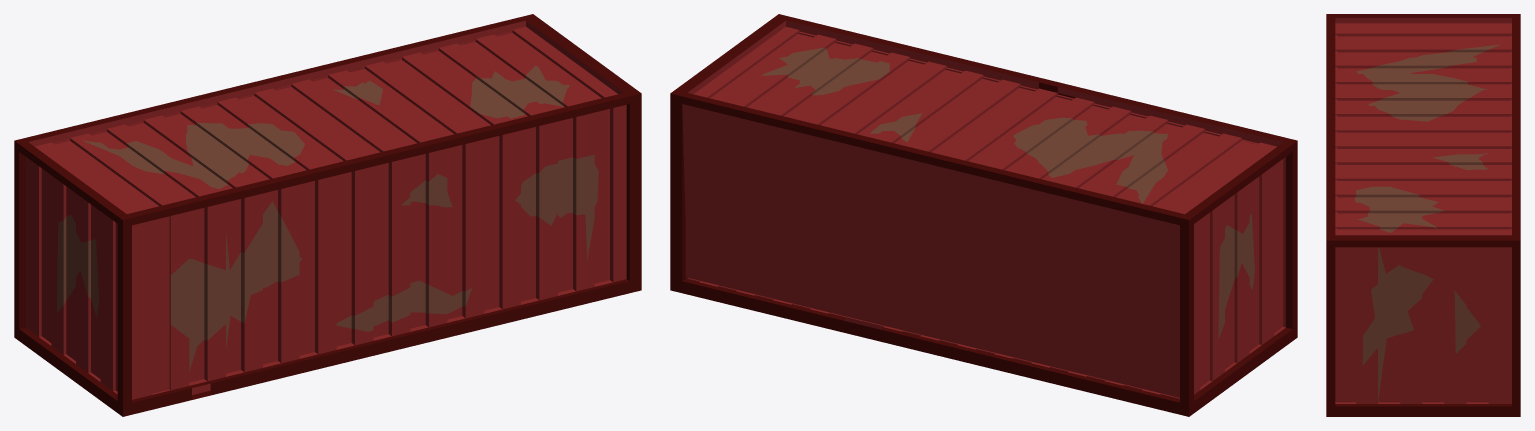
The model's file is ContainerRusty.fbx.
The picture shows the model from 3 angles, left to right: view 1: azimuth 30°, elevation 25°; view 2: azimuth 150°, elevation 25°; view 3: azimuth 270°, elevation 25°; orthographic projection. The views are drawn at different scales.
Visible parts, largest first — view 1: Cube; view 2: Cube; view 3: Cube.
Part boxes in pixels (<box>): Cube: <box>14,14,641,416</box>; Cube: <box>670,14,1297,416</box>; Cube: <box>1326,14,1520,416</box>.
Size of the model in its own units: 552 by 200 by 200.
